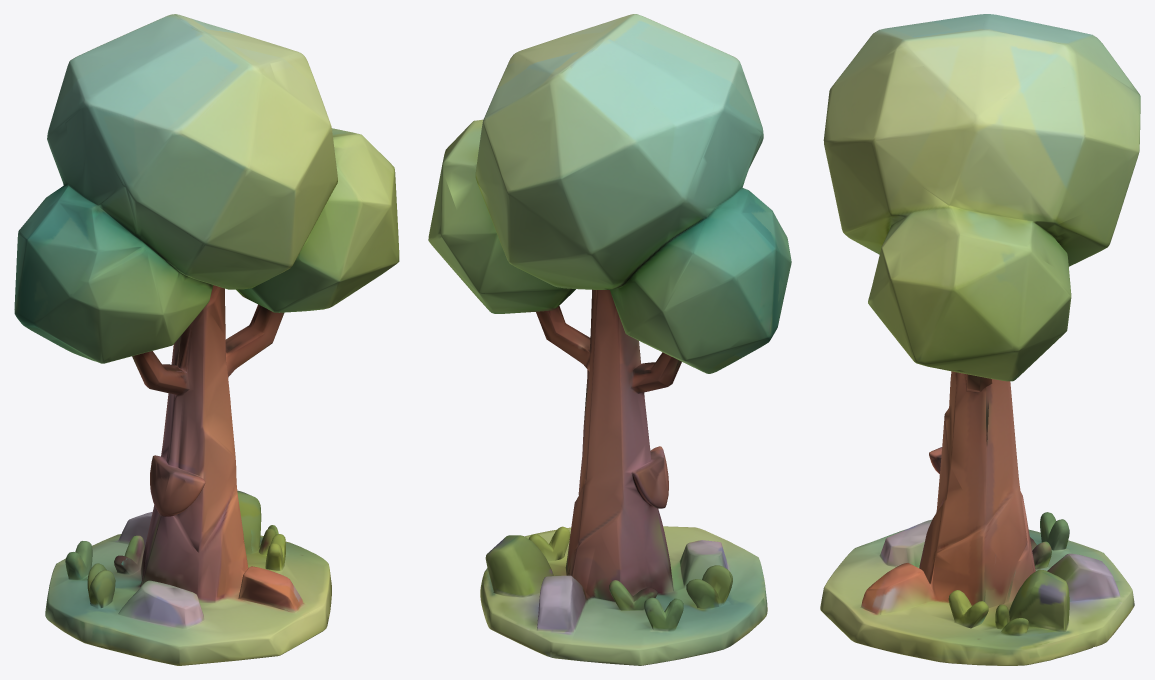
Rendered from tree1.fbx.
3 renders of one model, left to right at view 1: azimuth 30°, elevation 25°; view 2: azimuth 150°, elevation 25°; view 3: azimuth 270°, elevation 25°, orthographic. The views are drawn at different scales.
Parts seen in each view (by area): view 1: node_0.001; view 2: node_0.001; view 3: node_0.001.
Boxes of the visible parts, <box> form: node_0.001: <box>14,14,399,665</box>; node_0.001: <box>428,14,791,665</box>; node_0.001: <box>820,14,1140,665</box>.
Size of the model in its own units: 0.3764 by 0.5771 by 0.2867.
Materials: 1 (1 with a texture image).
